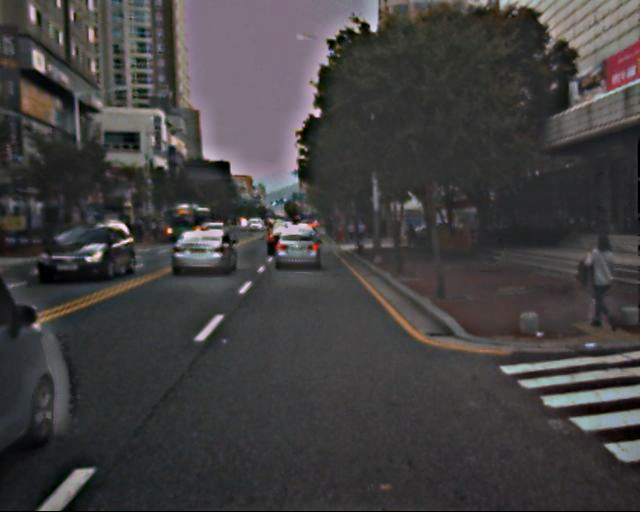person: (575, 233, 621, 335)
